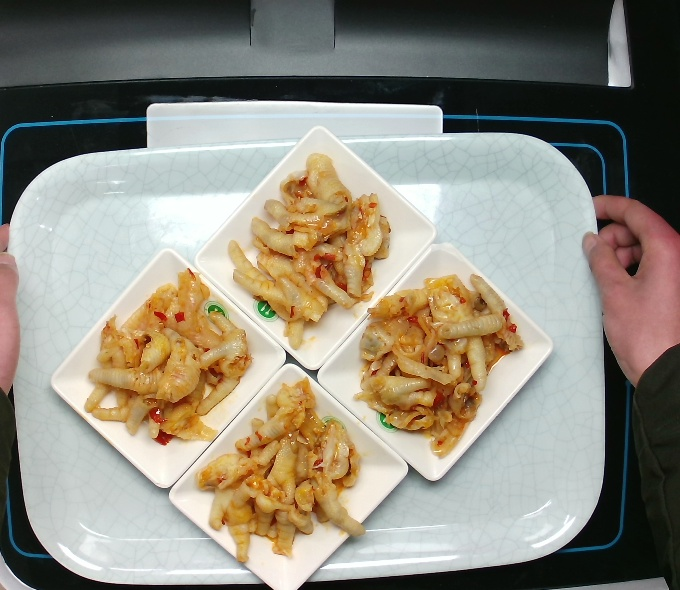wcq-LuJiZhua: (187, 367, 371, 568), (221, 140, 393, 353), (71, 257, 251, 449), (354, 263, 524, 461)
